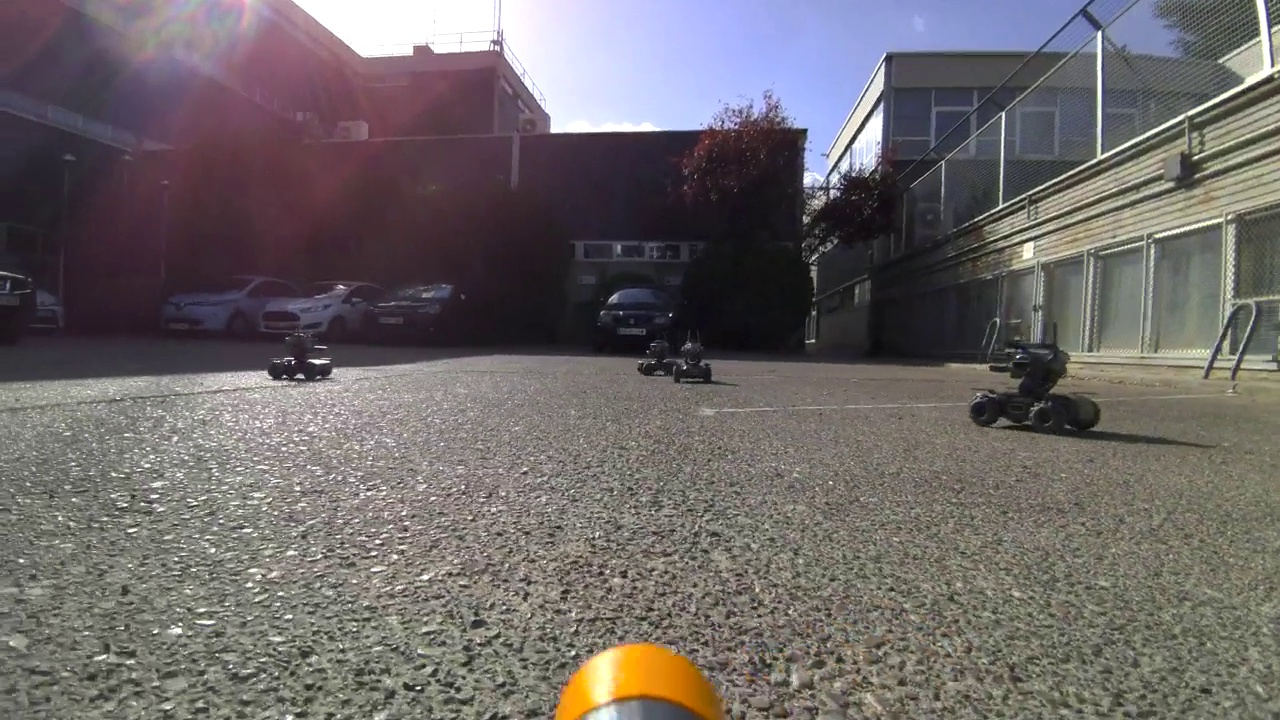robot: (952, 324, 1106, 440), (262, 323, 339, 387), (672, 328, 719, 383), (636, 326, 676, 382)
